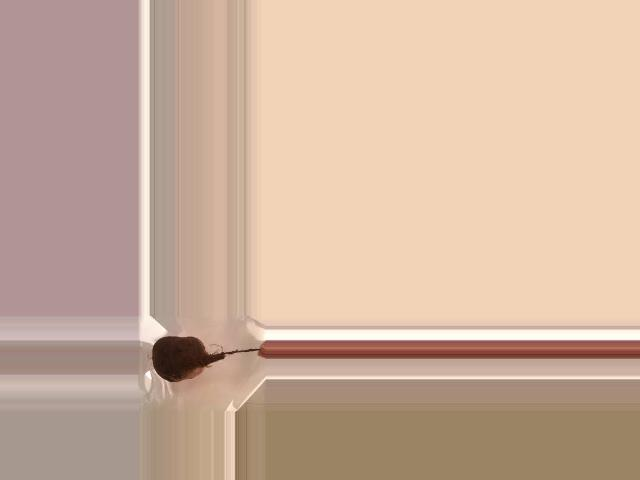beet: (152, 336, 261, 382)
